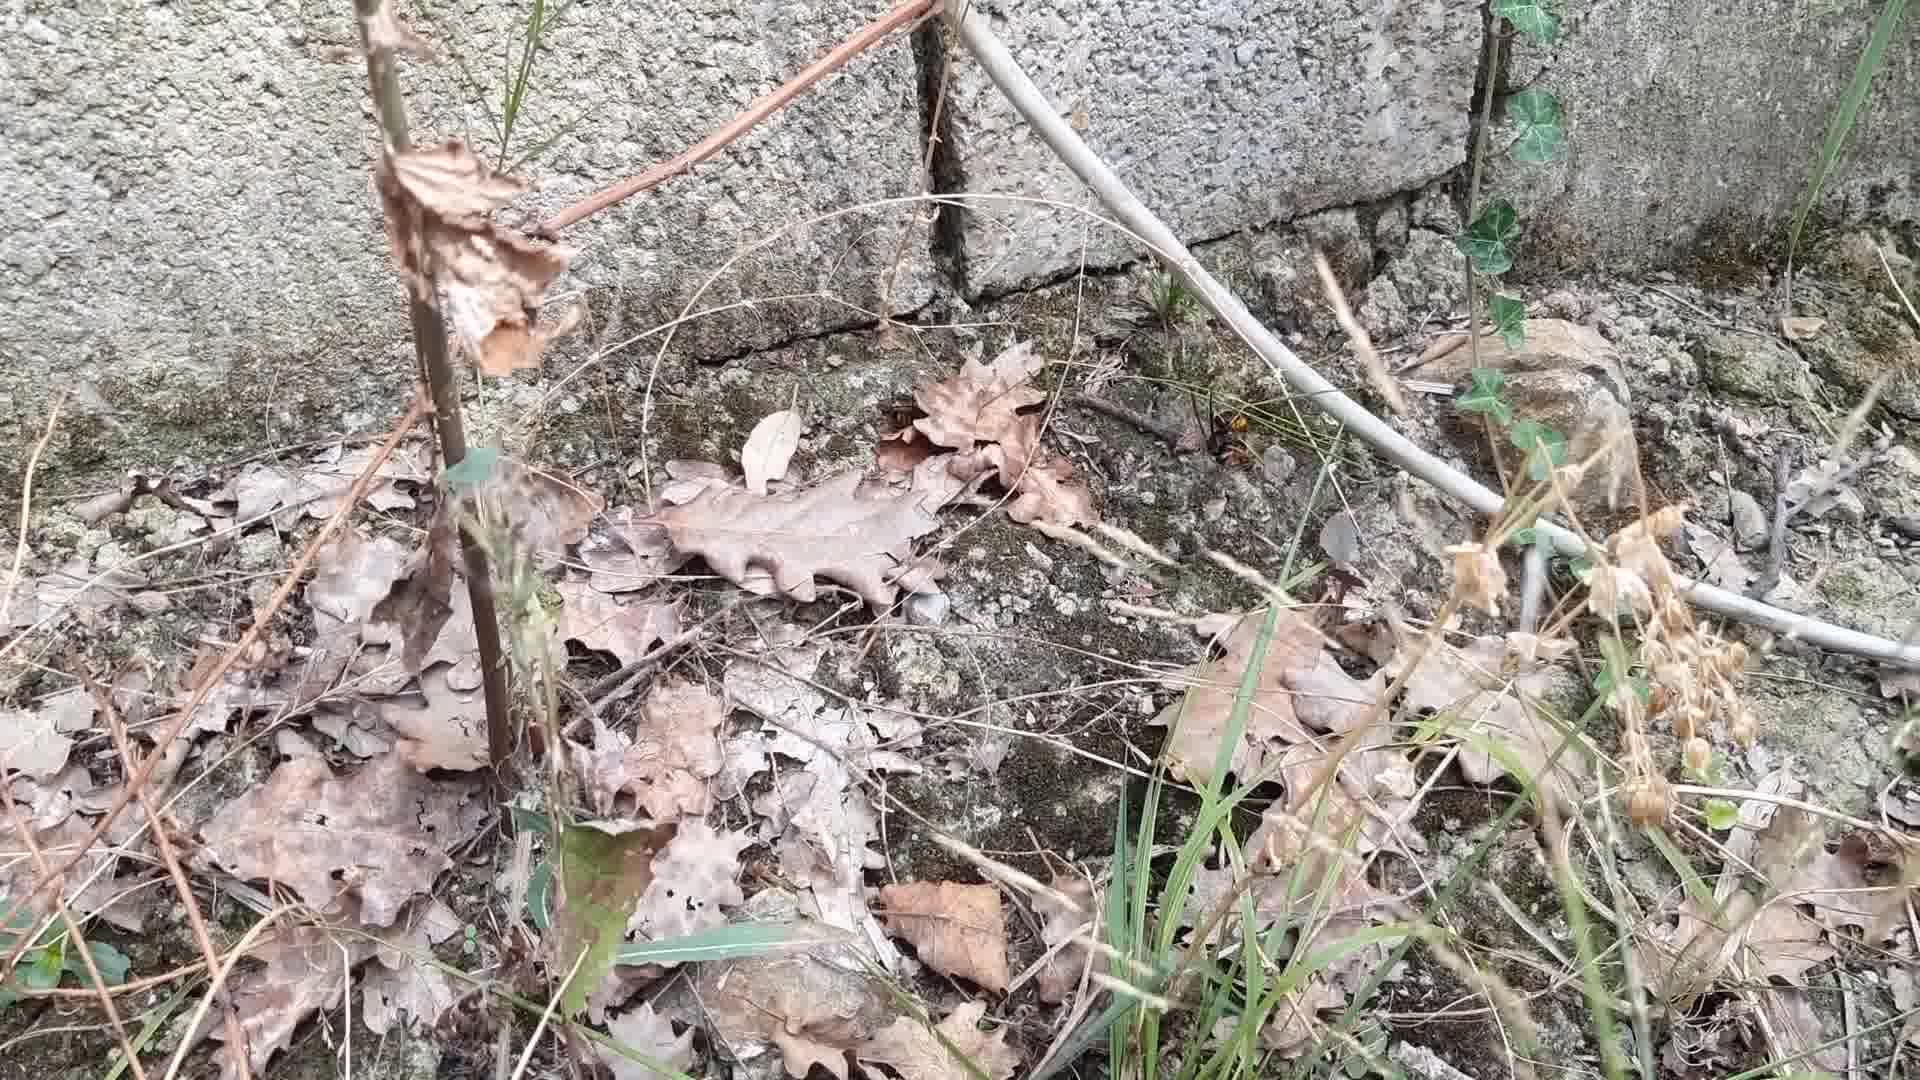hornet: (1197, 401, 1251, 468)
